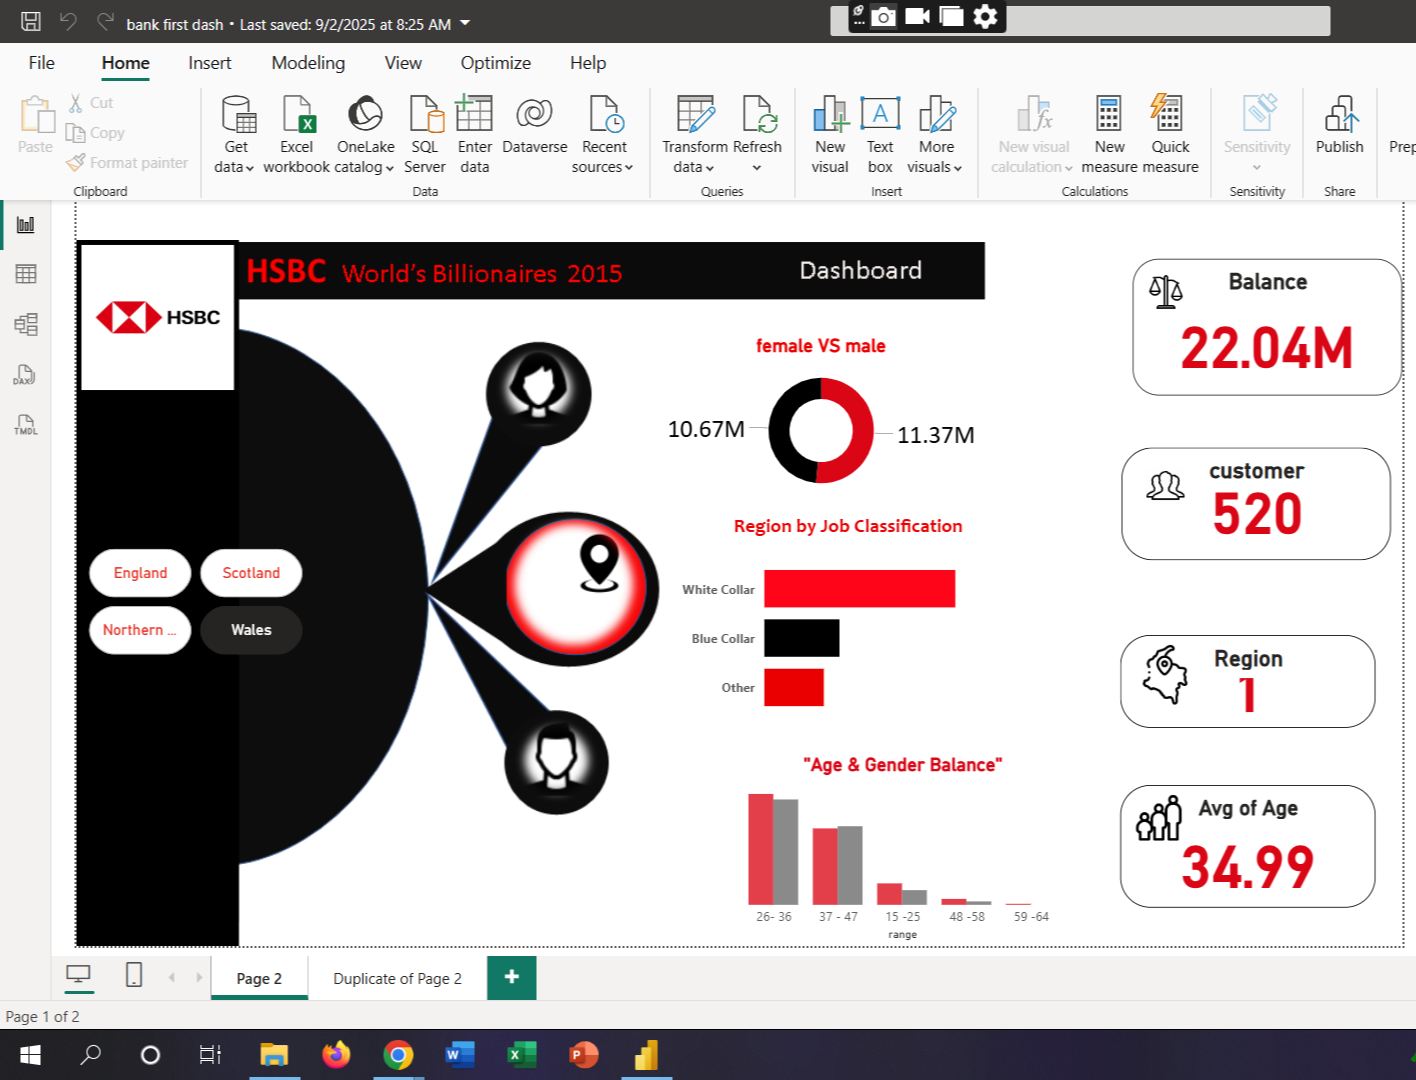

The page's visual inventory and layout, read from the dashboard file:
{"tool":"powerbi","page":{"name":"Page 2","canvas":[1280,720],"ordinal":0},"visuals":[{"type":"image","box":[147.7,30.5,735.9,689.5],"z":0},{"type":"shape","box":[0,38.5,156.9,681.3],"z":1000},{"type":"card","title":"Balance","fields":{"Values":["Sum(P6-UK-Bank-Customers (4).Balance)"]},"box":[1019.9,56.4,260.1,132.1],"z":2000},{"type":"image","box":[0,38.5,156.9,150],"z":3000},{"type":"card","title":"customer","fields":{"Values":["CountNonNull(P6-UK-Bank-Customers (4).Customer ID)"]},"box":[1008,239.2,259.9,108.6],"z":4000},{"type":"card","title":"Region","fields":{"Values":["Count(P6-UK-Bank-Customers (4).Region)"]},"box":[1007.5,419.8,246.4,89.5],"z":5000},{"type":"donutChart","title":"female VS male","fields":{"Y":["Sum(P6-UK-Bank-Customers (4).Balance)"],"Category":["P6-UK-Bank-Customers (4).Gender"]},"box":[543.7,130.8,349.6,162.4],"z":6000},{"type":"clusteredColumnChart","title":"\"Age & Gender Balance\"","fields":{"Y":["Sum(P6-UK-Bank-Customers (4).Balance)"],"Series":["P6-UK-Bank-Customers (4).Gender"],"Category":["P6-UK-Bank-Customers (4).range"]},"box":[619.4,534,357.8,185.8],"z":7000},{"type":"card","title":"Avg of Age","fields":{"Values":["Avg(P6-UK-Bank-Customers (4).Age)"]},"box":[1007.5,564.3,246.4,118.4],"z":8000},{"type":"image","box":[1028.7,65.9,45.2,45.2],"z":9000},{"type":"image","box":[1027.5,250.2,46.4,52.5],"z":10000},{"type":"image","box":[1016.5,419.8,67.1,76.9],"z":11000},{"type":"image","box":[1016.5,569.9,54.9,53.7],"z":12000},{"type":"barChart","title":" Region by Job Classification","fields":{"Y":["CountNonNull(P6-UK-Bank-Customers (4).Region)"],"Category":["P6-UK-Bank-Customers (4).Job Classification"]},"box":[579.4,302.8,331.7,212],"z":13000},{"type":"advancedSlicerVisual","fields":{"Values":["P6-UK-Bank-Customers (4).Region"]},"box":[6.9,331.7,323.4,112.9],"z":13001}]}

Visuals, with their boxes on the page's 1280x720 design canvas (x1, y1, x2, y2). These are canvas units, not pixel positions in the 1416x1080 screenshot, which may show the page scaled, cropped or inside an application window:
image: <bbox>148, 30, 884, 720</bbox>
shape: <bbox>0, 38, 157, 720</bbox>
"Balance" card: <bbox>1020, 56, 1280, 188</bbox>
image: <bbox>0, 38, 157, 188</bbox>
"customer" card: <bbox>1008, 239, 1268, 348</bbox>
"Region" card: <bbox>1008, 420, 1254, 509</bbox>
"female VS male" donutChart: <bbox>544, 131, 893, 293</bbox>
""Age & Gender Balance"" clusteredColumnChart: <bbox>619, 534, 977, 720</bbox>
"Avg of Age" card: <bbox>1008, 564, 1254, 683</bbox>
image: <bbox>1029, 66, 1074, 111</bbox>
image: <bbox>1028, 250, 1074, 303</bbox>
image: <bbox>1016, 420, 1084, 497</bbox>
image: <bbox>1016, 570, 1071, 624</bbox>
" Region by Job Classification" barChart: <bbox>579, 303, 911, 515</bbox>
advancedSlicerVisual - P6-UK-Bank-Customers (4).Region: <bbox>7, 332, 330, 445</bbox>
